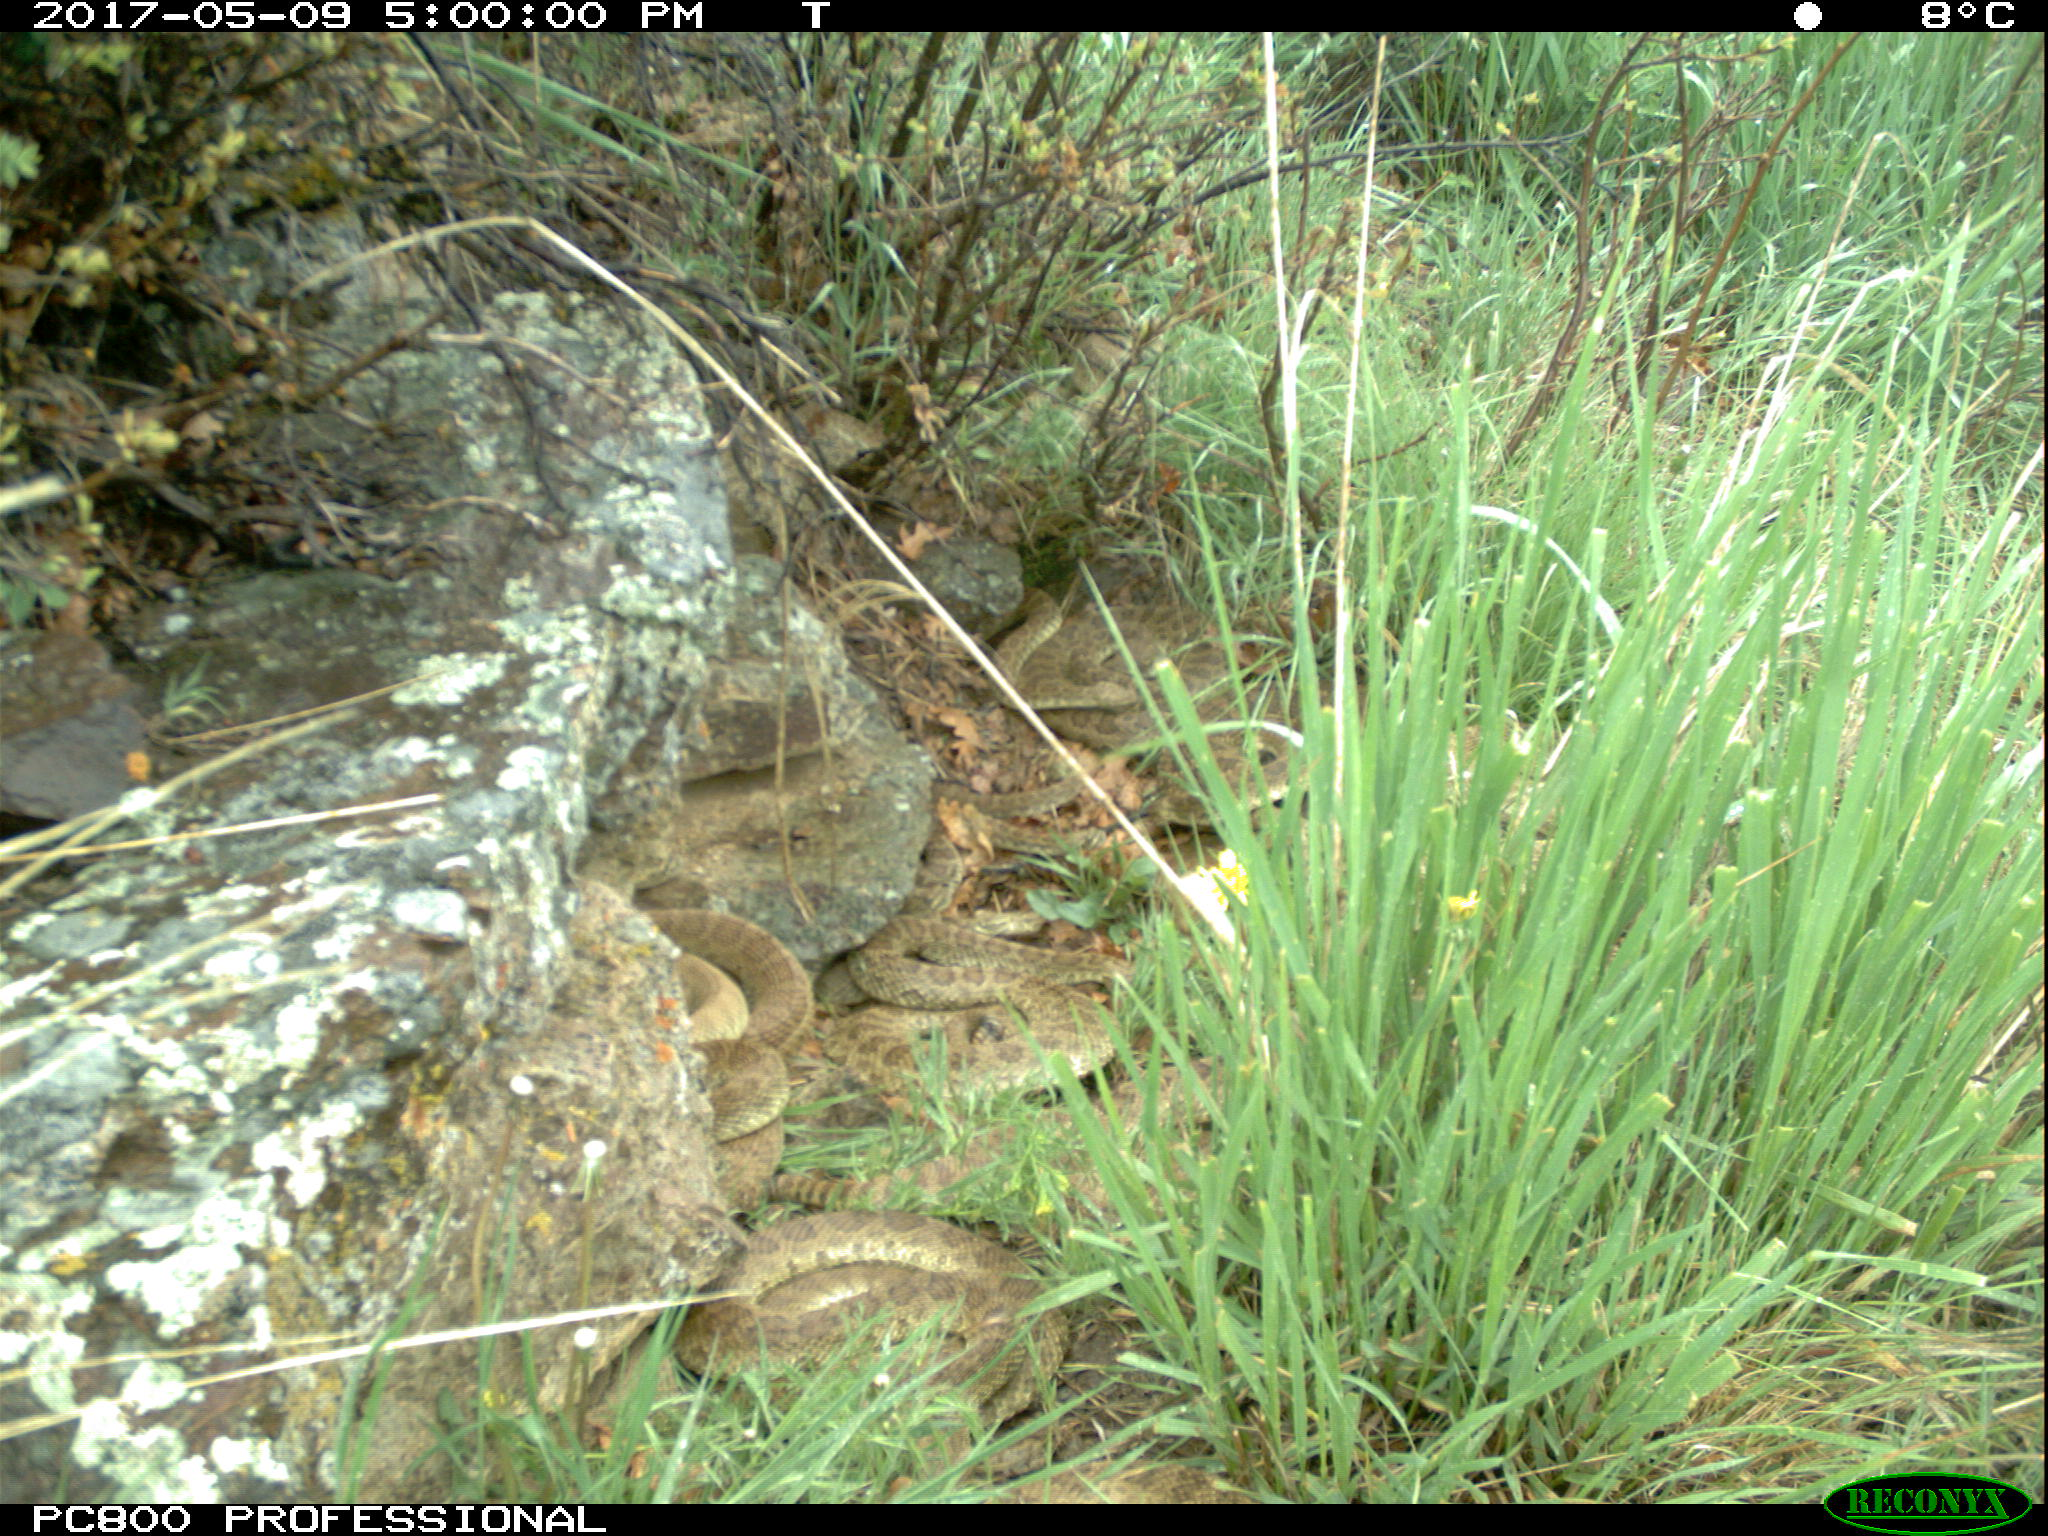snake: (679, 1210, 1079, 1418), (985, 594, 1322, 808), (832, 900, 1132, 1091), (645, 905, 805, 1142), (964, 1441, 1259, 1501)
